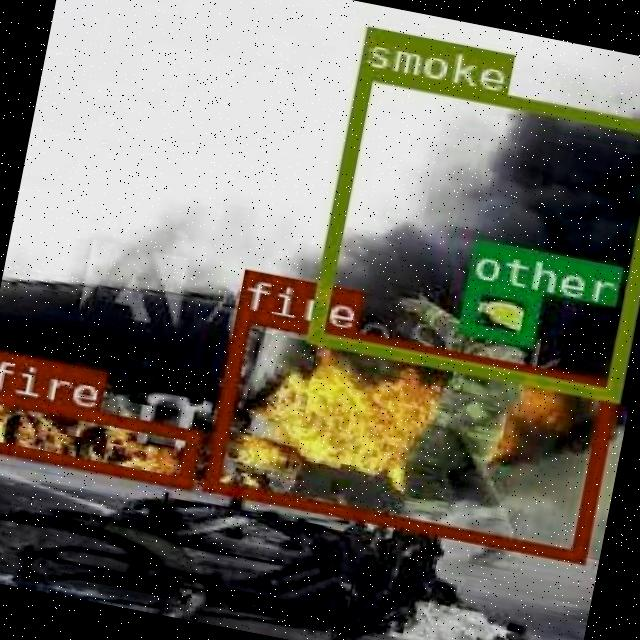smoke: (305, 65, 640, 400)
